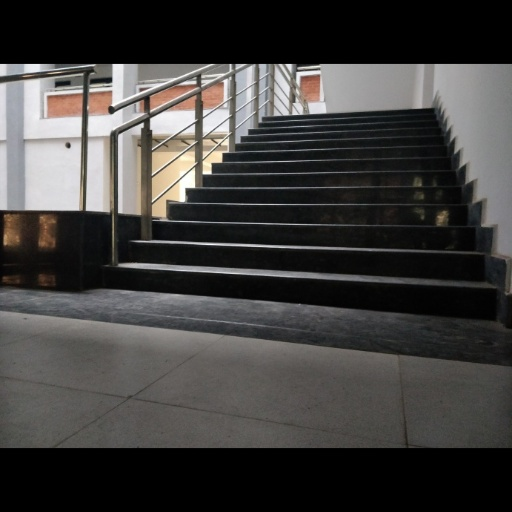Stairs: (104, 109, 488, 317)
